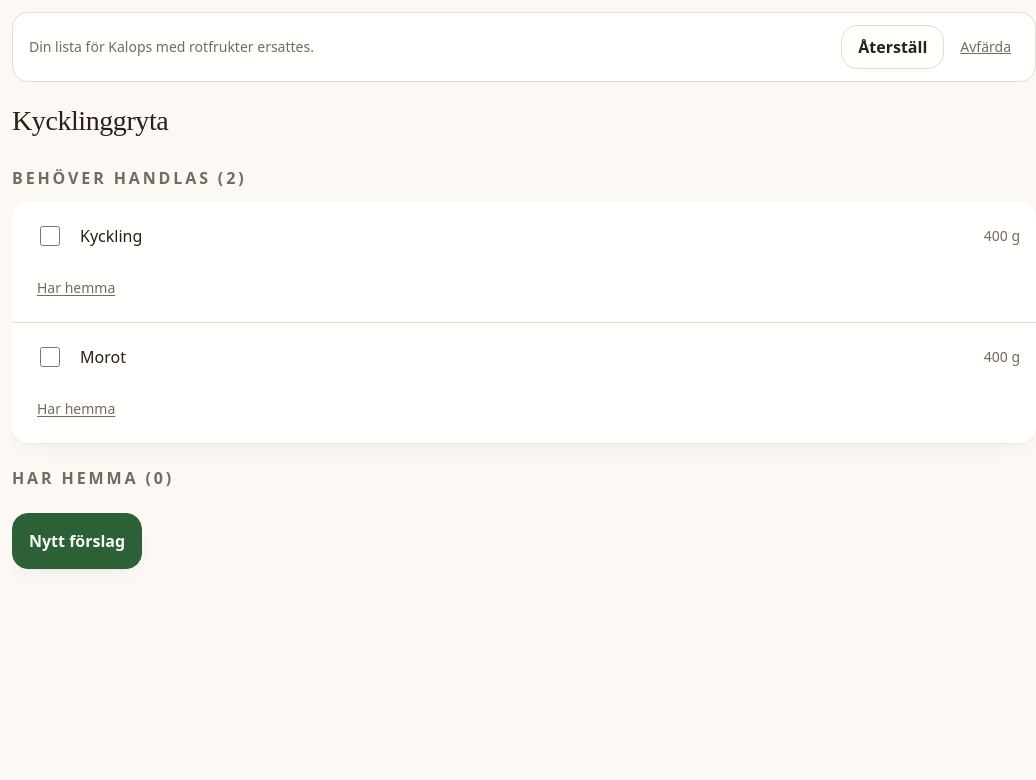
a displaced shopping list (#202) › retires the offer when dismissed, and does not bring it back on a re-render
This screenshot has width=1036, height=780.
What coordinates should you click on to do the following:
click the button "Avfärda"
I would click on:
 (986, 47)
Its box is [952,29,1019,65].
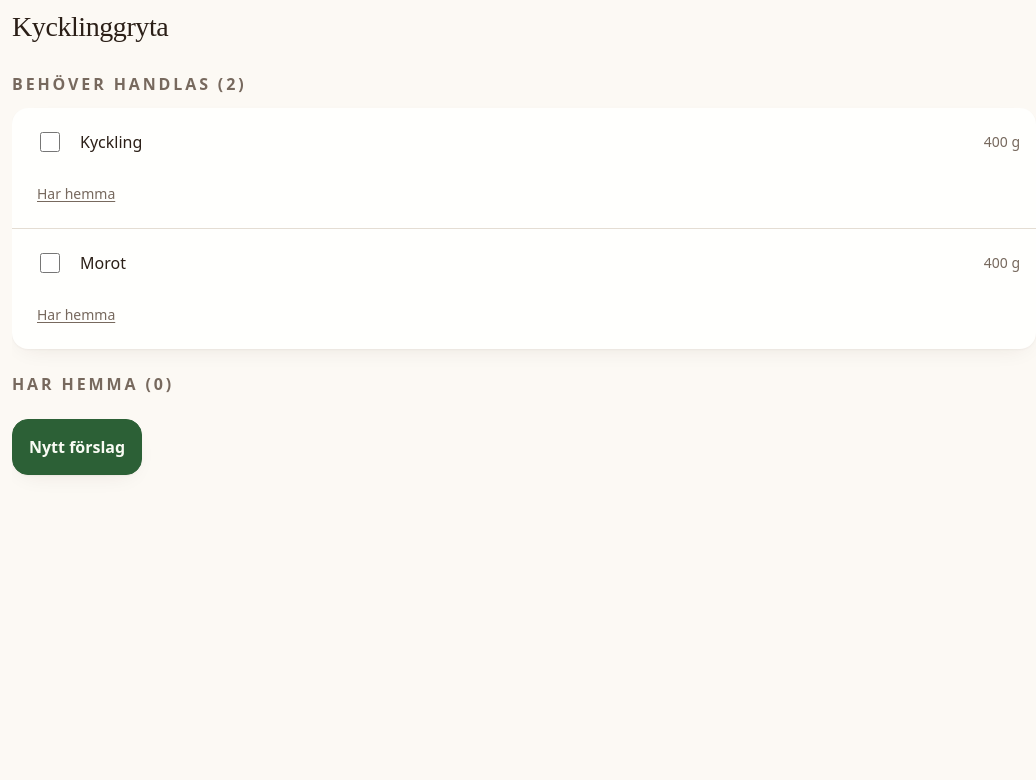
Now the text "ersattes" is gone
